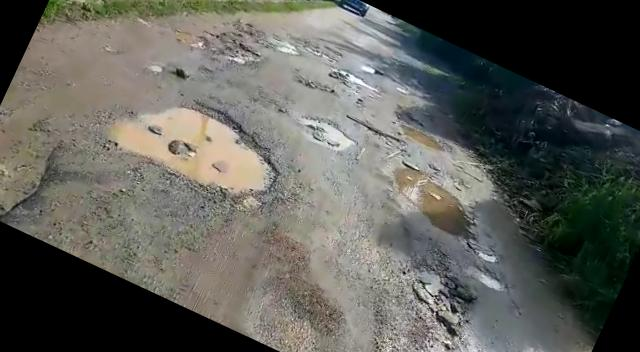pothole: (96, 68, 297, 220), (376, 158, 498, 252), (382, 252, 482, 344), (0, 108, 66, 231), (168, 7, 268, 79), (297, 110, 363, 157), (340, 110, 410, 152), (320, 58, 384, 96), (394, 120, 452, 158), (464, 260, 513, 296)
